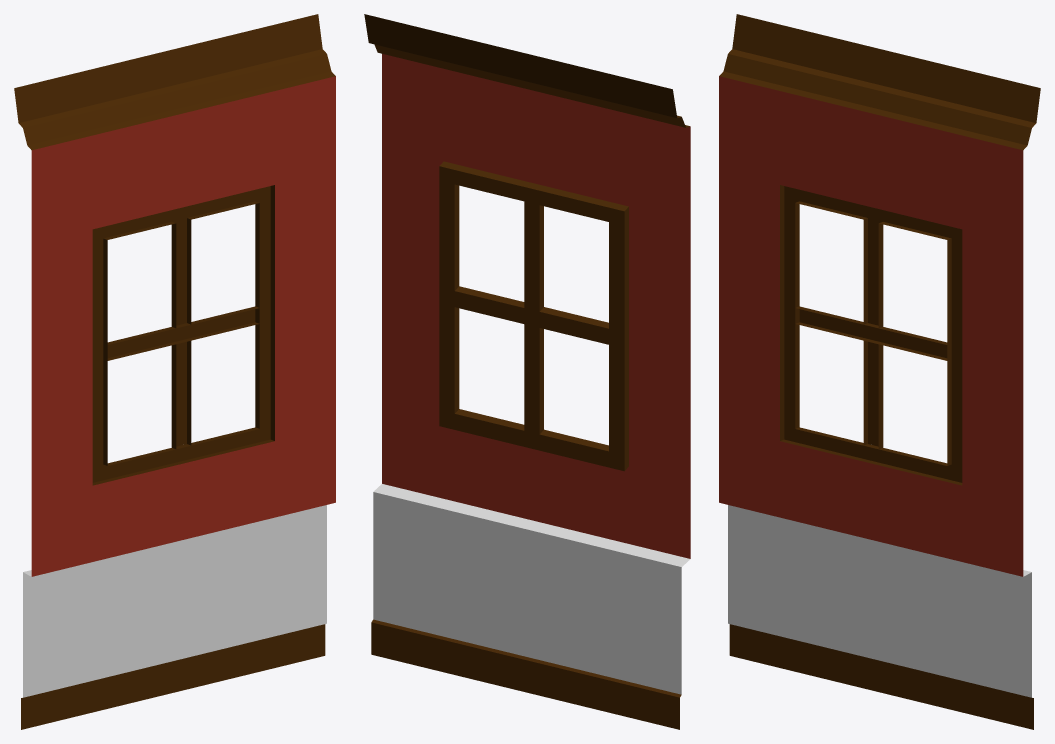
File: Bar_Wall_Window.fbx
The picture shows the model from 3 angles, left to right: view 1: azimuth 30°, elevation 25°; view 2: azimuth 150°, elevation 25°; view 3: azimuth 330°, elevation 25°; orthographic projection.
Visible parts, largest first — view 1: Cube; view 2: Cube; view 3: Cube.
Boxes of the visible parts, left/top/right/bottom form: Cube: left=14, top=14, right=335, bottom=729; Cube: left=364, top=14, right=690, bottom=729; Cube: left=719, top=14, right=1040, bottom=729.
Size of the model in its own units: 200 by 400 by 20.
